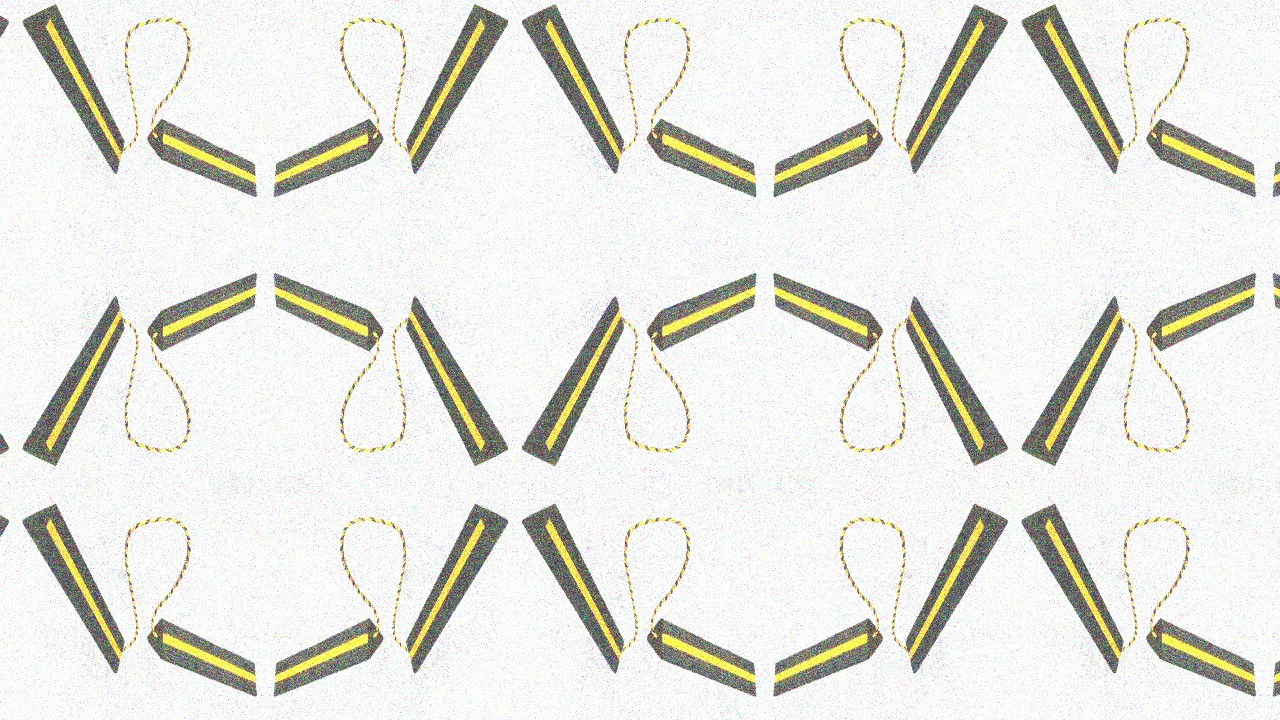chock: (18, 283, 130, 479), (400, 283, 512, 479), (518, 283, 630, 479), (900, 283, 1012, 479), (1018, 283, 1130, 479), (18, 491, 130, 687), (400, 491, 512, 687), (518, 491, 630, 687), (900, 491, 1012, 687), (1018, 491, 1130, 687), (18, 0, 130, 187), (400, 0, 512, 187), (518, 0, 630, 187), (900, 0, 1012, 187), (1018, 0, 1130, 187), (143, 108, 263, 212), (267, 108, 387, 212), (643, 108, 763, 212), (767, 108, 887, 212), (1143, 108, 1263, 212), (143, 258, 263, 362), (267, 258, 387, 362), (643, 258, 763, 362), (767, 258, 887, 362), (1143, 258, 1263, 362), (143, 608, 263, 712), (267, 608, 387, 712), (643, 608, 763, 712), (767, 608, 887, 712), (1143, 608, 1263, 712), (0, 283, 12, 479), (0, 491, 12, 687), (0, 0, 12, 187), (1267, 108, 1280, 212), (1267, 258, 1280, 362), (1267, 608, 1280, 712)
